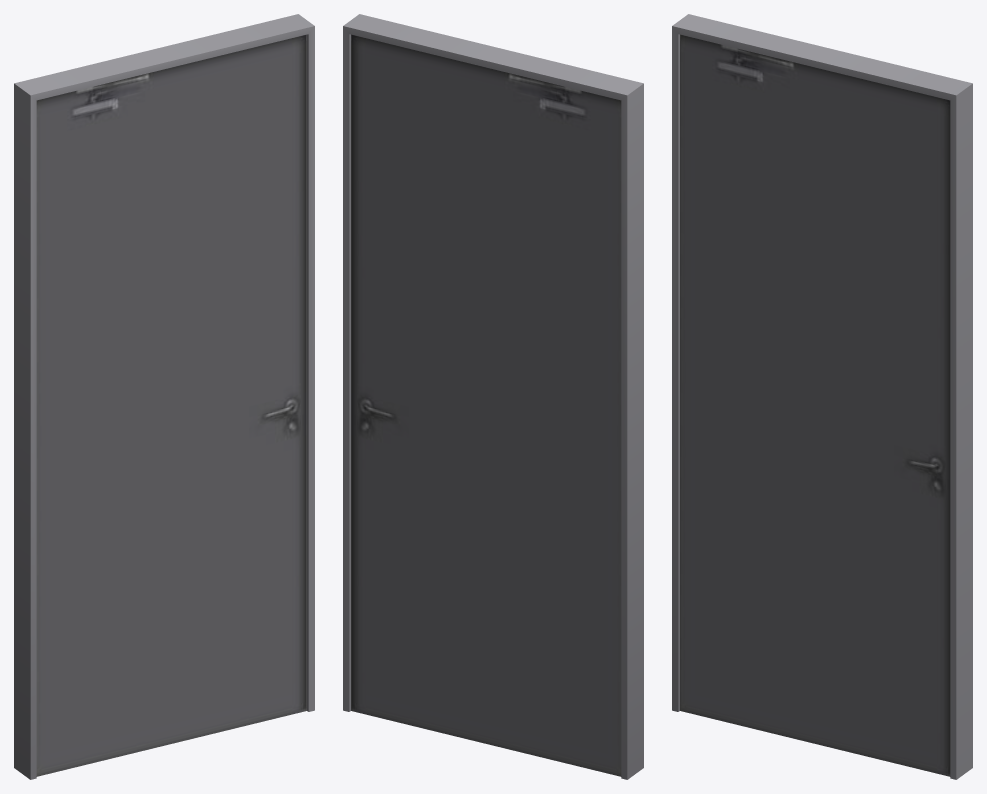
The picture shows the model from 3 angles, left to right: view 1: azimuth 30°, elevation 25°; view 2: azimuth 150°, elevation 25°; view 3: azimuth 330°, elevation 25°; orthographic projection.
Visible parts, largest first — view 1: Lo-BODYa_01, Lo-BODY_01; view 2: Lo-BODYa_01, Lo-BODY_01; view 3: Lo-BODYa_01, Lo-BODY_01.
Part boxes in pixels (x1=…): Lo-BODYa_01: x1=36, y1=34, x2=306, y2=776; Lo-BODY_01: x1=14, y1=14, x2=314, y2=779; Lo-BODYa_01: x1=351, y1=34, x2=621, y2=776; Lo-BODY_01: x1=343, y1=14, x2=643, y2=779; Lo-BODYa_01: x1=680, y1=34, x2=950, y2=776; Lo-BODY_01: x1=672, y1=14, x2=972, y2=779.
Bounding box in the file's own units: 1 × 2.3 × 0.1.
1 material, 1 textured.
